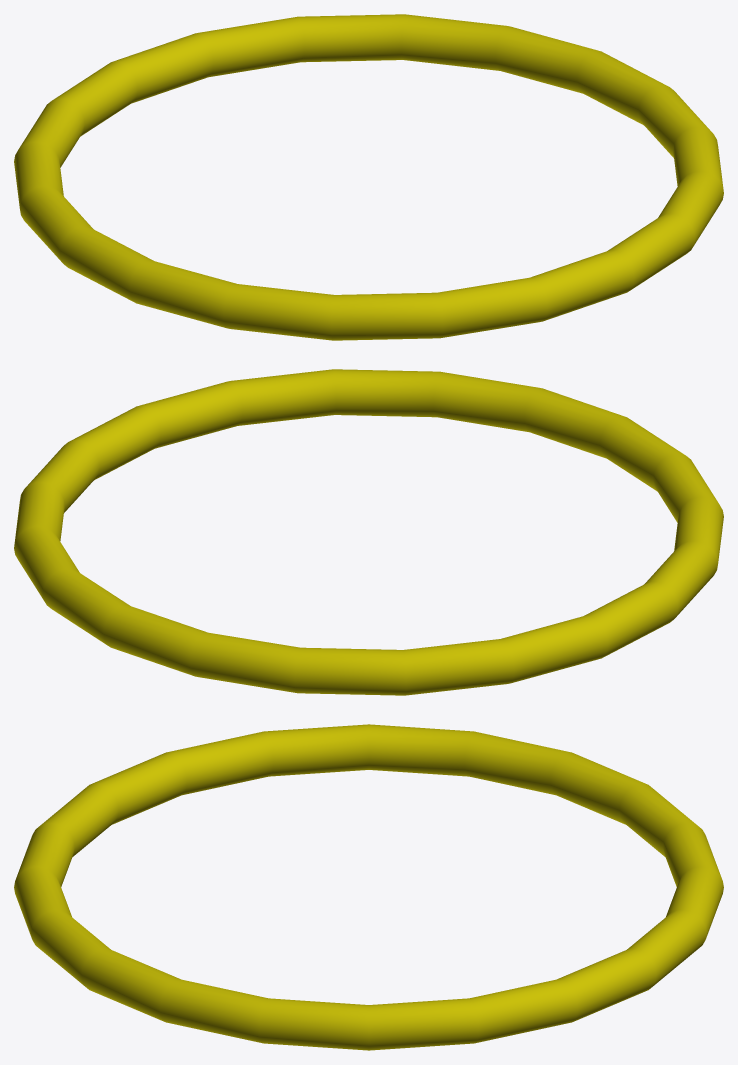
The model's file is ling.fbx.
3 views of the same model, one above another, from view 1: azimuth 30°, elevation 25°; view 2: azimuth 150°, elevation 25°; view 3: azimuth 270°, elevation 25° (orthographic).
Visible parts, largest first — view 1: pTorus1; view 2: pTorus1; view 3: pTorus1.
Boxes of the visible parts, box(x1,y1,x2,y2) form: pTorus1: box(14, 14, 723, 340); pTorus1: box(14, 369, 723, 695); pTorus1: box(14, 724, 723, 1050).
Size of the model in its own units: 15.49 by 1 by 15.49.
